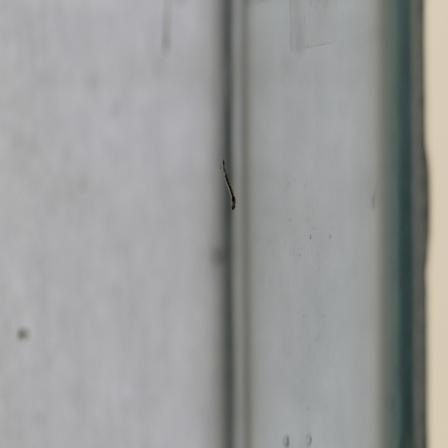Jentik-Nyamuk: (218, 158, 238, 213)
